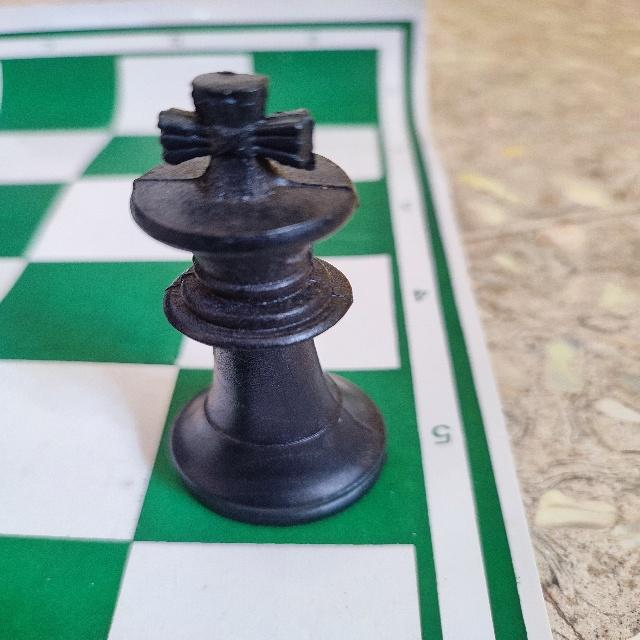King: (122, 64, 402, 529)
